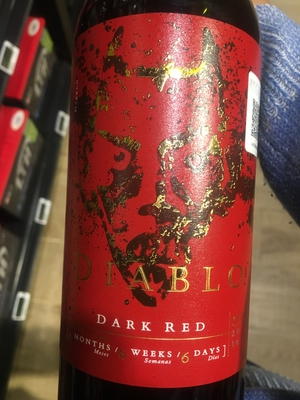diablo dark red: (63, 3, 272, 388)
